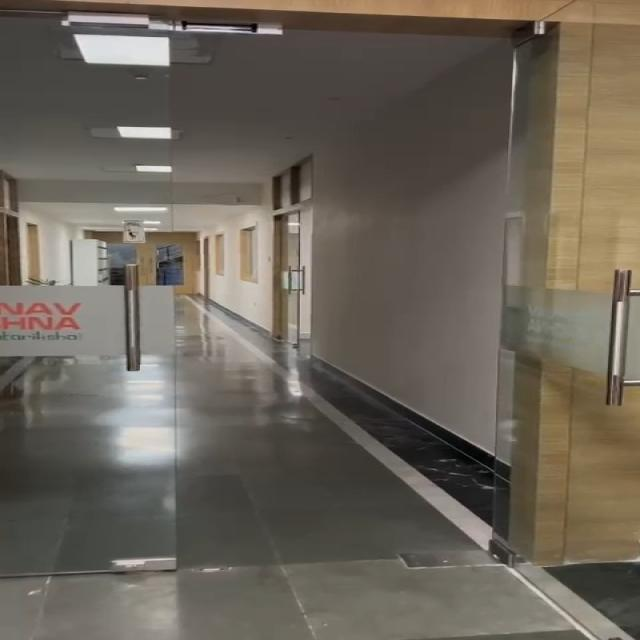door: (27, 2, 170, 578), (518, 4, 640, 592), (262, 132, 332, 363)
floor: (195, 355, 447, 596), (6, 578, 640, 640)
